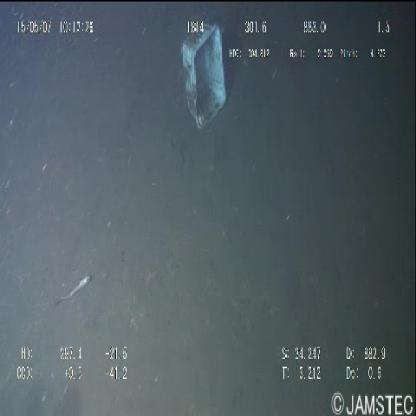Rác: (174, 12, 231, 139)
